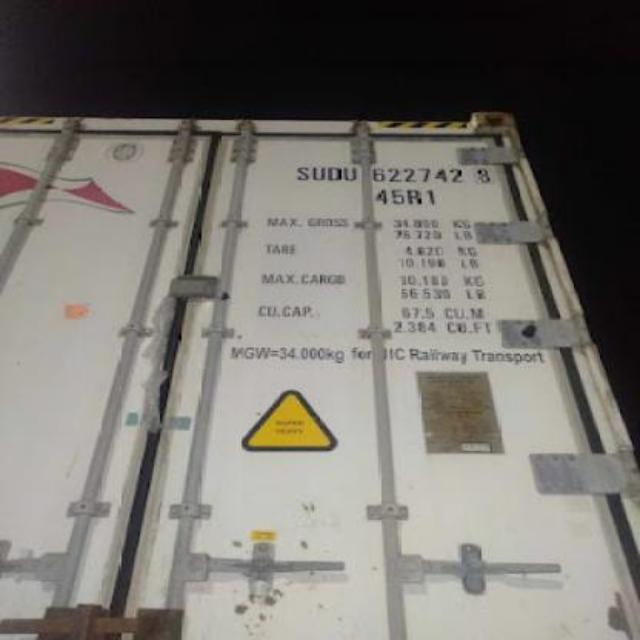2: (400, 168, 416, 182), (451, 168, 464, 184), (388, 168, 402, 182)
4: (434, 167, 452, 183)
6: (370, 168, 388, 182)
7: (416, 168, 432, 182)
8: (476, 168, 492, 182)
D: (328, 168, 342, 180)
S: (292, 168, 310, 180)
U: (344, 167, 358, 180), (312, 168, 326, 180)
